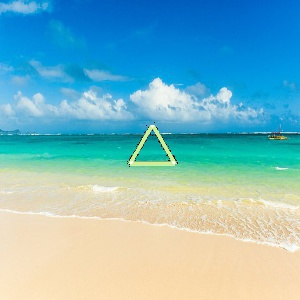triangle: (124, 121, 181, 169)
